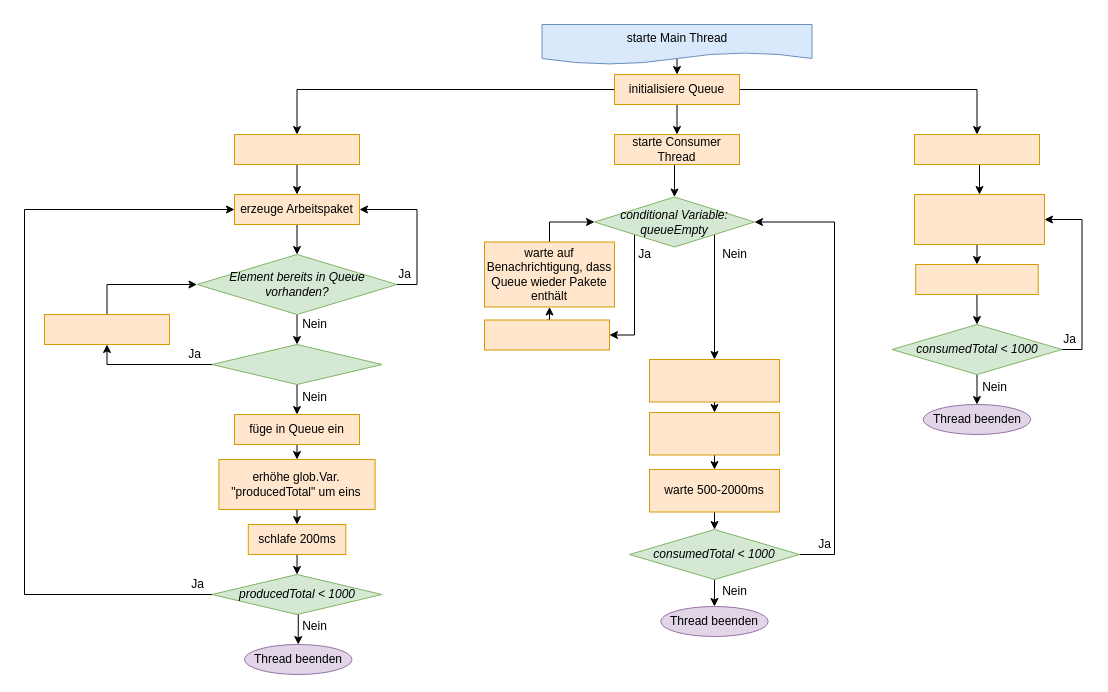
The diagram is 1108 pixels wide and 692 high, and some of its shapes have lost their labels. Each missing label, with the box of its shape:
blockiere: (484, 319, 610, 350)
eine Sekunde in Zustand "blocked": (44, 314, 170, 344)
gebe Inhalt Queue + Anzahl verarbeiteter Pakete aus: (914, 194, 1044, 244)
gib Speicherplatz des Paketes frei: (648, 412, 780, 455)
nimm erstes Arbeitspaket aus Queue: (648, 358, 780, 402)
Queue voll?: (211, 344, 382, 384)
starte Observer Thread: (914, 134, 1040, 164)
starte Producer Thread: (234, 134, 360, 164)
warte eine Sekunde: (915, 264, 1038, 294)
